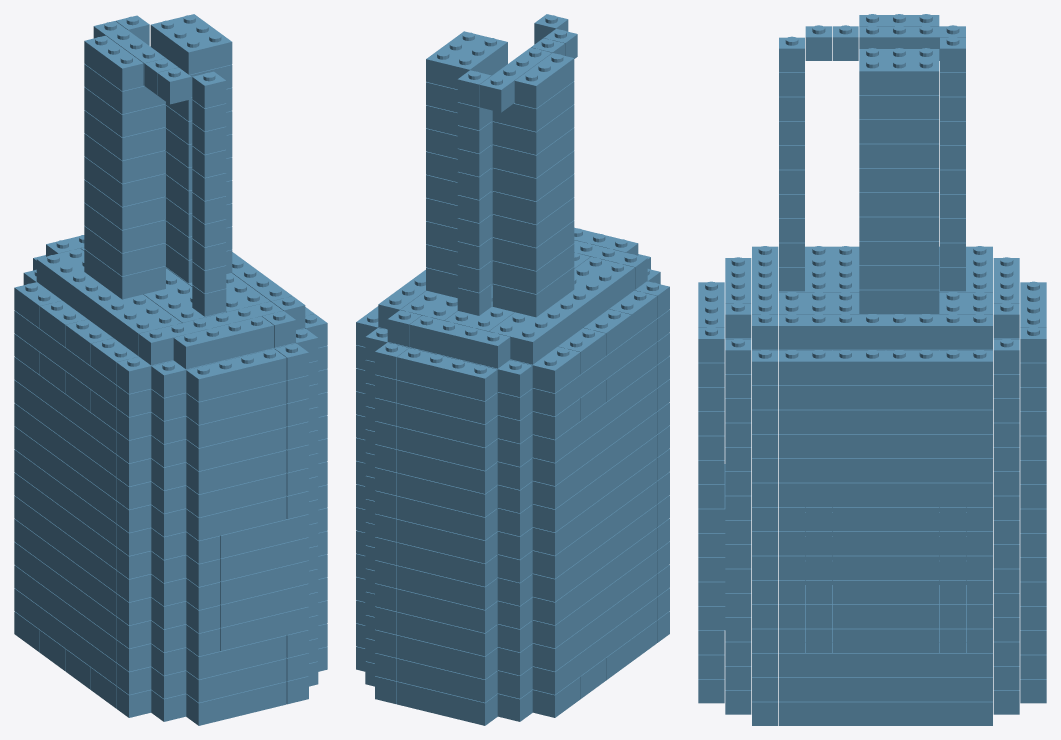
File: 126_camera_L1.glb
3 renders of one model, left to right at view 1: azimuth 30°, elevation 25°; view 2: azimuth 150°, elevation 25°; view 3: azimuth 270°, elevation 25°, orthographic. The views are drawn at different scales.
Bounding box in the file's own units: 8.98 × 26.13 × 12.98.
